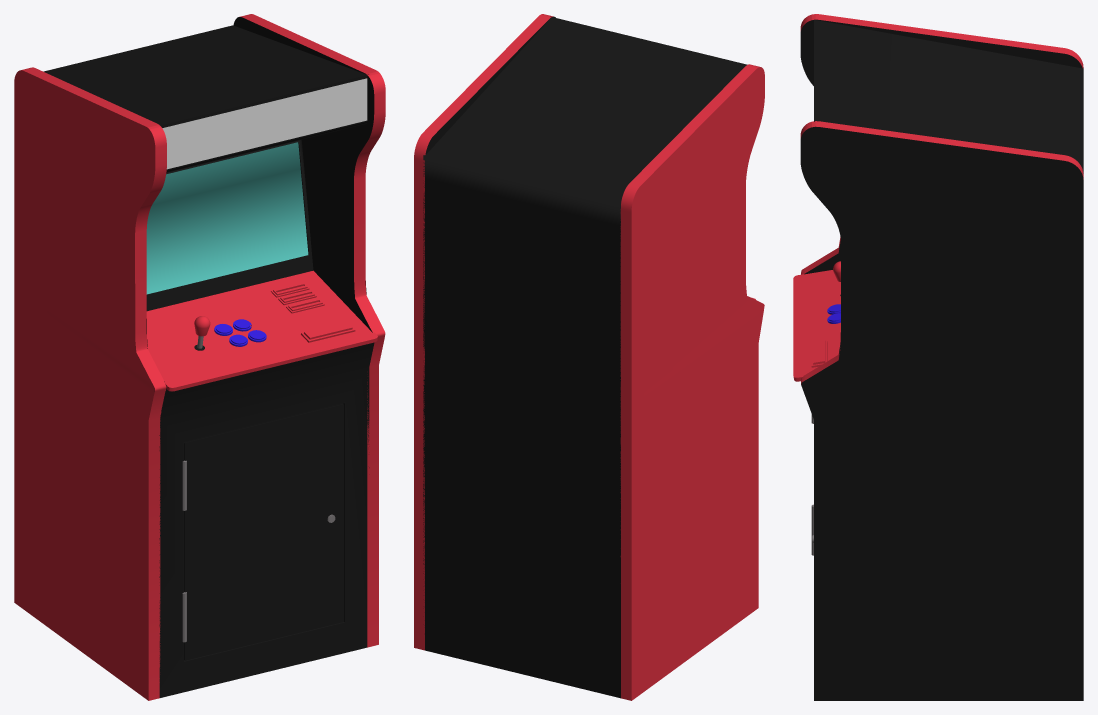
Rendered from PersonalArcadeMachineUnwrapped.fbx.
3 views of the same model, side by side, from view 1: azimuth 30°, elevation 25°; view 2: azimuth 150°, elevation 25°; view 3: azimuth 270°, elevation 25° (orthographic). The views are drawn at different scales.
Visible parts, largest first — view 1: arcade_mech; view 2: arcade_mech; view 3: arcade_mech.
Part boxes in pixels (bbox=[...]): arcade_mech: bbox=[14, 14, 385, 700]; arcade_mech: bbox=[414, 14, 764, 700]; arcade_mech: bbox=[793, 14, 1083, 700].
Size of the model in its own units: 198 by 470 by 215.
